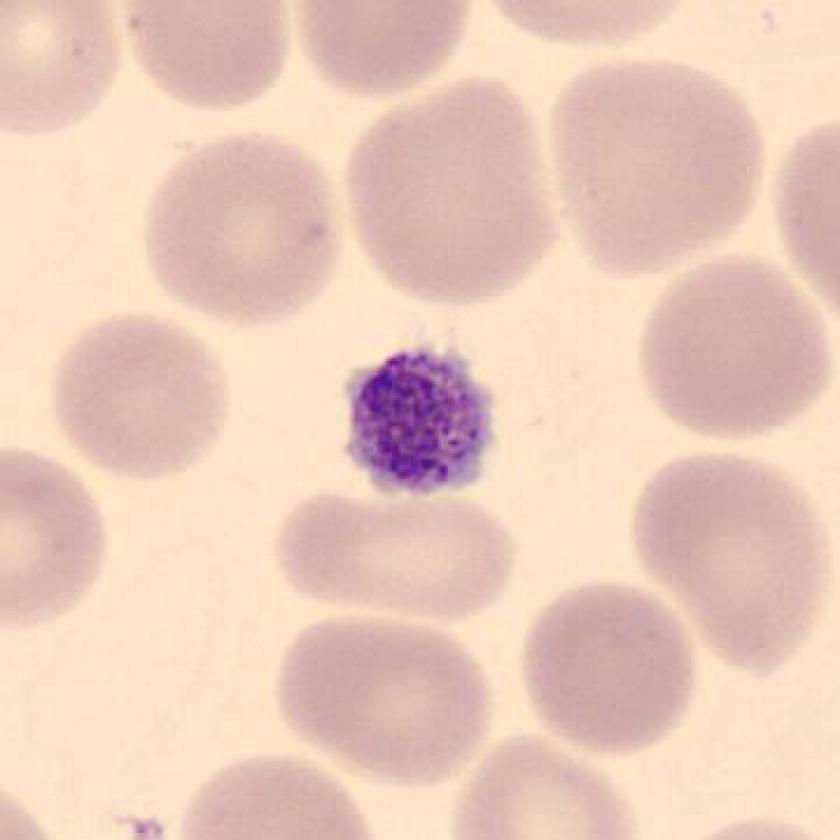platelets: (339, 337, 505, 506)
